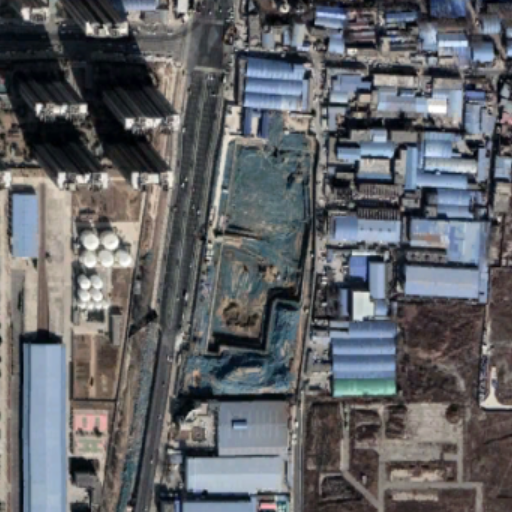cw: (179, 131, 320, 398)
